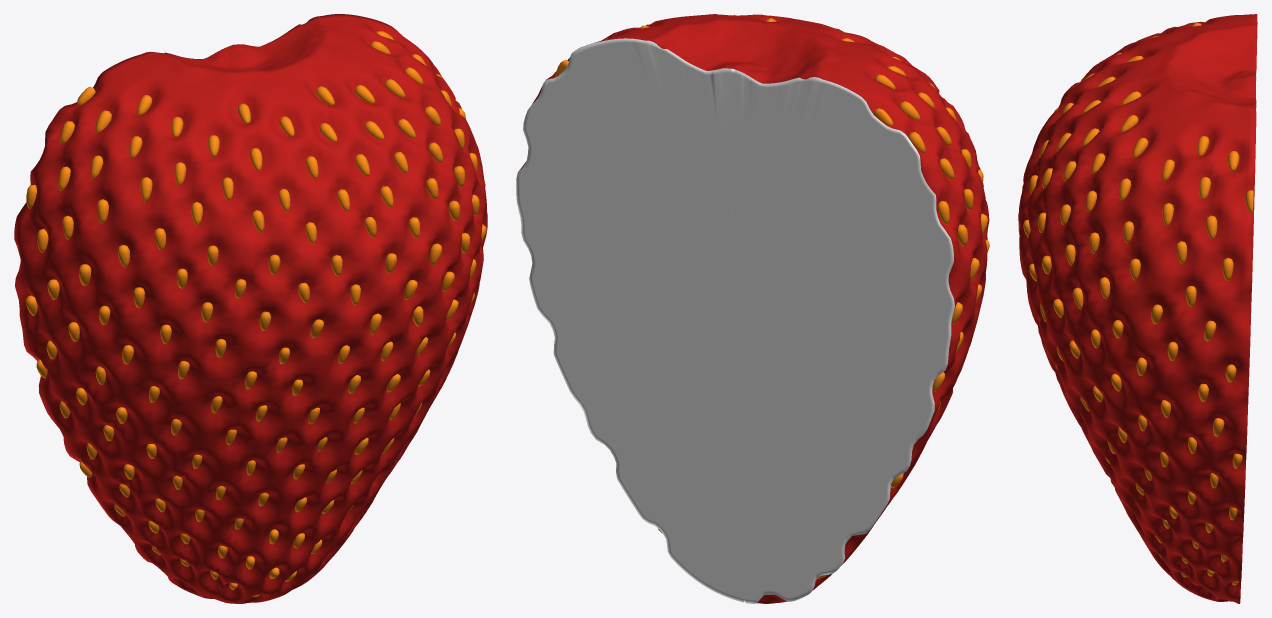
File: HalfStrawberry.glb
The picture shows the model from 3 angles, left to right: view 1: azimuth 30°, elevation 25°; view 2: azimuth 150°, elevation 25°; view 3: azimuth 270°, elevation 25°; orthographic projection. The views are drawn at different scales.
Visible parts, largest first — view 1: TS_Strawberry_001_Half; view 2: TS_Strawberry_001_Half; view 3: TS_Strawberry_001_Half.
Boxes of the visible parts, <box> form: TS_Strawberry_001_Half: <box>14,14,487,603</box>; TS_Strawberry_001_Half: <box>516,14,989,603</box>; TS_Strawberry_001_Half: <box>1018,14,1257,603</box>.
Bounding box in the file's own units: 0.2344 × 0.2823 × 0.1156.
